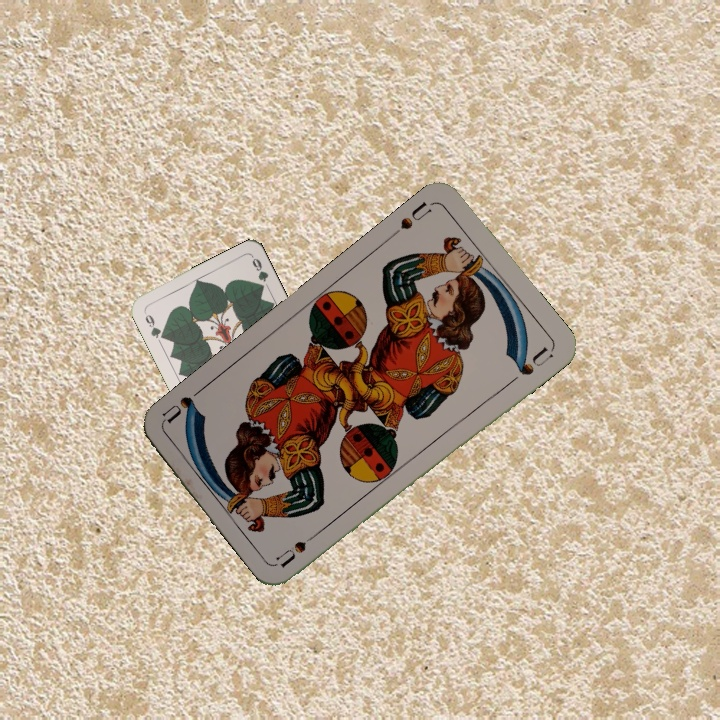G9: (140, 308, 168, 342)
SU: (273, 524, 326, 570), (396, 197, 436, 232)
